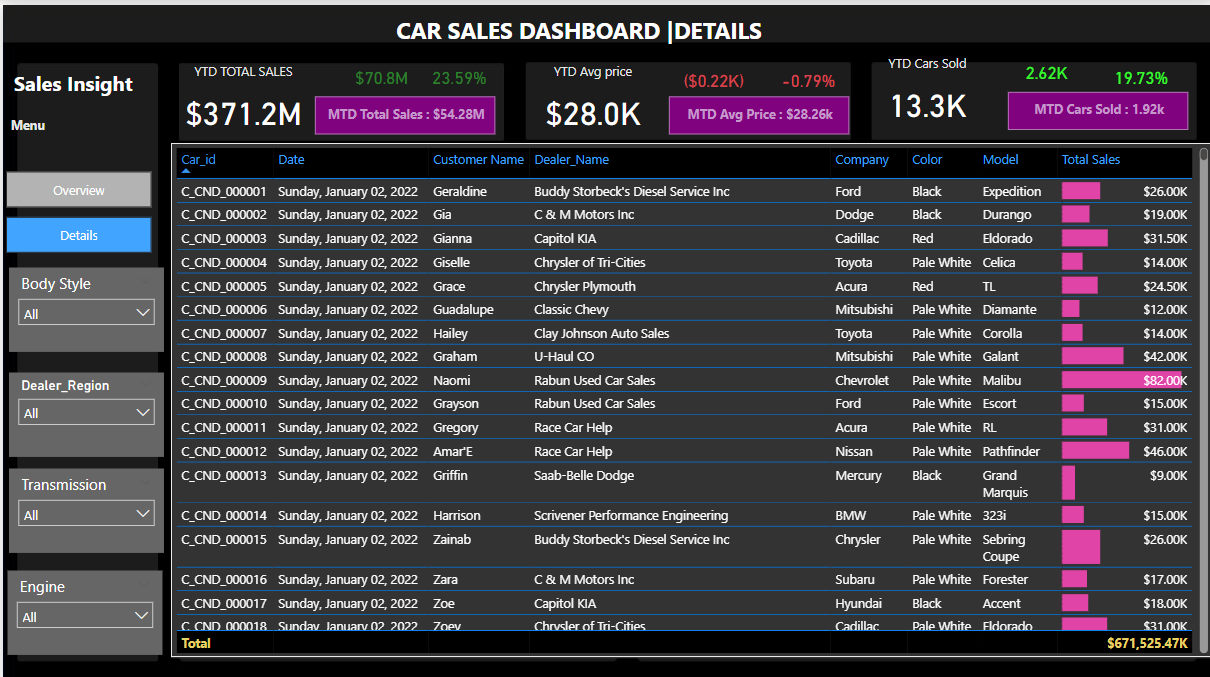

This screenshot's page, from the dashboard's own definition file:
{"tool":"powerbi","page":{"name":"Details","canvas":[1280,720],"ordinal":1},"visuals":[{"type":"card","title":"YTD TOTAL SALES","fields":{"Values":["All formulas.YTD Total Sales"]},"box":[177.6,60.5,153.1,85],"z":0},{"type":"card","title":"Sales Diff","fields":{"Values":["All formulas.Sales Difference"]},"box":[359.1,56.7,83.2,39.7],"z":1000},{"type":"card","title":"Sales Diff","fields":{"Values":["All formulas.YoY Sales Growth"]},"box":[442.2,56.7,79.4,39.7],"z":2000},{"type":"card","fields":{"Values":["All formulas.MTD KPI"]},"box":[330.7,96.4,190.9,40],"z":3000},{"type":"card","title":"YTD Avg price","fields":{"Values":["All formulas.YTD Avg Price"]},"box":[548,60.5,153.1,85],"z":4000},{"type":"card","title":"Sales Diff","fields":{"Values":["All formulas.Avg Price Diff"]},"box":[701.1,60.5,100.2,39.7],"z":5000},{"type":"card","title":"Sales Diff","fields":{"Values":["All formulas.Yoy Avg Price Growth"]},"box":[801.3,60.5,100.2,39.7],"z":6000},{"type":"card","fields":{"Values":["All formulas.MTD AVG KPI"]},"box":[704.9,96.4,190.9,39.7],"z":7000},{"type":"card","title":"YTD Cars Sold","fields":{"Values":["All formulas.YTD Cars Sold"]},"box":[901.4,52.9,153.1,85],"z":8000},{"type":"card","title":"Sales Diff","fields":{"Values":["All formulas.Car Sold Diff"]},"box":[1054.5,52.9,100.2,39.7],"z":9000},{"type":"card","title":"Sales Diff","fields":{"Values":["All formulas.Yoy Car Sold Growth"]},"box":[1154.7,56.7,100.2,39.7],"z":10000},{"type":"card","fields":{"Values":["All formulas.MTD Car Sold KPI"]},"box":[1063.9,92.6,190.9,39.7],"z":11000},{"type":"textbox","box":[368.6,4.7,482.6,48.4],"z":12000},{"type":"slicer","fields":{"Values":["car_data.Body Style"]},"box":[6.8,277.5,164,89],"z":13000},{"type":"slicer","fields":{"Values":["car_data.Dealer_Region"]},"box":[6.8,388.4,164,89],"z":14000},{"type":"slicer","fields":{"Values":["car_data.Transmission"]},"box":[6.8,489.9,164,89],"z":15000},{"type":"slicer","fields":{"Values":["car_data.Engine"]},"box":[5.2,597.7,164,89],"z":16000},{"type":"tableEx","fields":{"Values":["car_data.Car_id","car_data.Date","car_data.Customer Name","car_data.Dealer_Name","car_data.Company","car_data.Color","car_data.Model","All formulas.Total Sales"]},"box":[178,145.2,1102.6,545.1],"z":17000},{"type":"textbox","box":[6.2,62.5,171.8,40.6],"z":18000},{"type":"textbox","box":[3.1,112.5,171.8,40.6],"z":19000},{"type":"pageNavigator","box":[3.1,176.5,154.6,87.5],"z":20000}]}

Visuals, with their boxes on the page's 1280x720 design canvas (x1, y1, x2, y2). These are canvas units, not pixel positions in the 1210x677 screenshot, which may show the page scaled, cropped or inside an application window:
"YTD TOTAL SALES" card: 178,60,331,146
"Sales Diff" card: 359,57,442,96
"Sales Diff" card: 442,57,522,96
card - All formulas.MTD KPI: 331,96,522,136
"YTD Avg price" card: 548,60,701,146
"Sales Diff" card: 701,60,801,100
"Sales Diff" card: 801,60,902,100
card - All formulas.MTD AVG KPI: 705,96,896,136
"YTD Cars Sold" card: 901,53,1054,138
"Sales Diff" card: 1054,53,1155,93
"Sales Diff" card: 1155,57,1255,96
card - All formulas.MTD Car Sold KPI: 1064,93,1255,132
textbox: 369,5,851,53
slicer - car_data.Body Style: 7,278,171,366
slicer - car_data.Dealer_Region: 7,388,171,477
slicer - car_data.Transmission: 7,490,171,579
slicer - car_data.Engine: 5,598,169,687
tableEx - car_data.Car_id x car_data.Date: 178,145,1281,690
textbox: 6,62,178,103
textbox: 3,112,175,153
pageNavigator: 3,176,158,264
